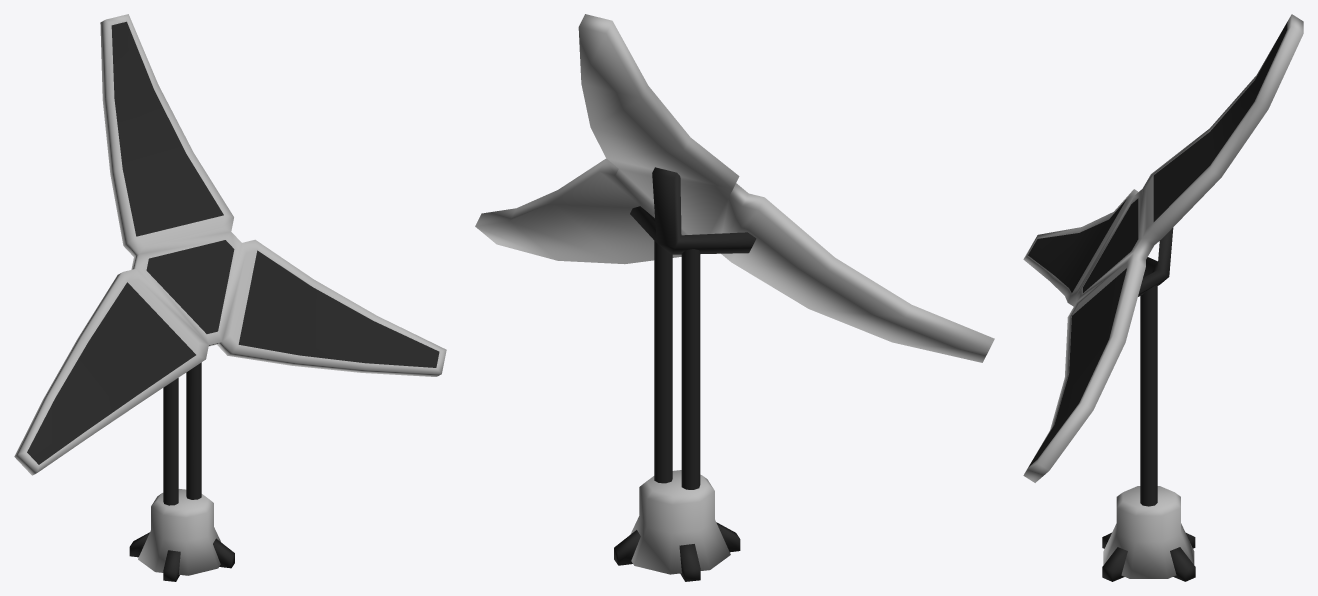
File: SciFiSolarPanelTriangle.fbx
The picture shows the model from 3 angles, left to right: view 1: azimuth 30°, elevation 25°; view 2: azimuth 150°, elevation 25°; view 3: azimuth 270°, elevation 25°; orthographic projection. The views are drawn at different scales.
Parts seen in each view (by area): view 1: scifi-solar-panel-triangle; view 2: scifi-solar-panel-triangle; view 3: scifi-solar-panel-triangle.
Boxes of the visible parts, left/top/right/bottom form: scifi-solar-panel-triangle: left=14, top=14, right=446, bottom=581; scifi-solar-panel-triangle: left=475, top=14, right=994, bottom=581; scifi-solar-panel-triangle: left=1023, top=14, right=1303, bottom=581.
Size of the model in its own units: 373 by 414 by 194.
1 material, 1 textured.
